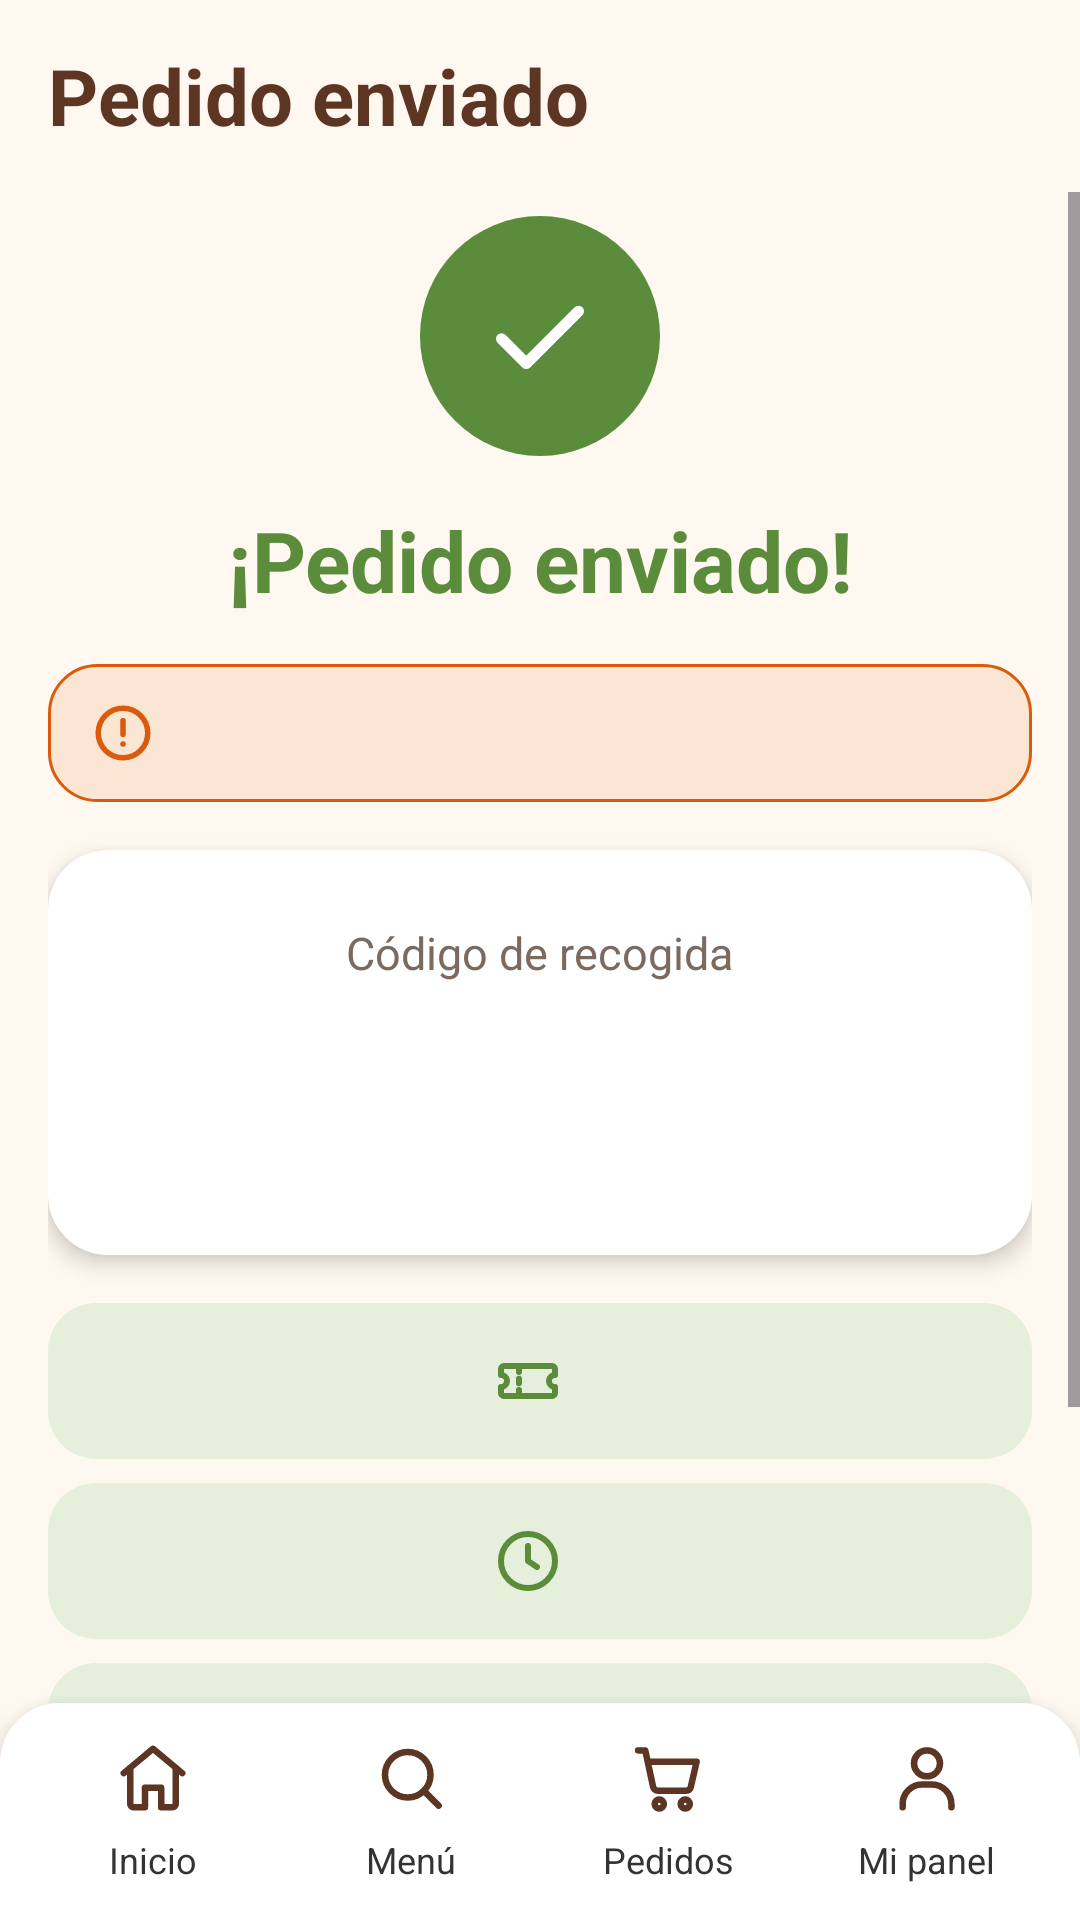

Icon bounding boxes for this 1080px×1920px phone screenshot, format (x1, y1, x2, y2):
alerta: (95, 705, 151, 761)
check: (496, 305, 584, 369)
reloj: (498, 1531, 558, 1591)
ticket: (498, 1363, 558, 1399)
